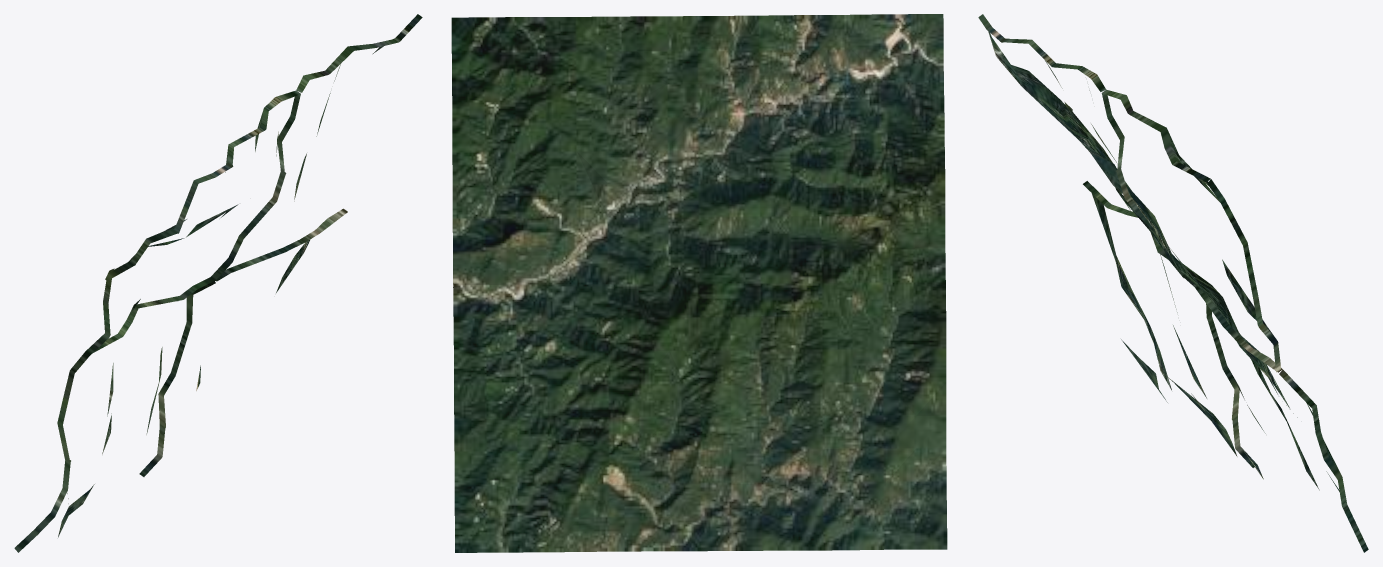
The picture shows the model from 3 angles, left to right: view 1: azimuth 30°, elevation 25°; view 2: azimuth 150°, elevation 25°; view 3: azimuth 270°, elevation 25°; orthographic projection. The views are drawn at different scales.
Bounding box in the file's own units: 19789 × 18730 × 15659.
1 material, 1 textured.
